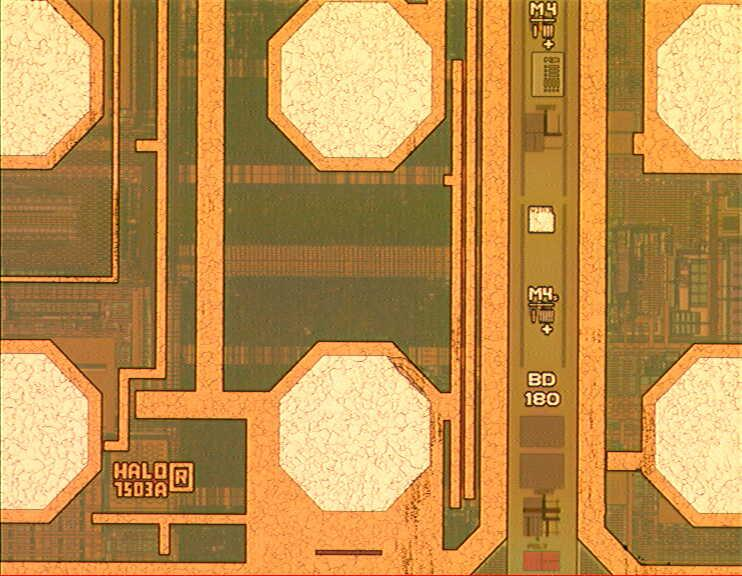SCRATCH: (377, 288, 477, 576)
